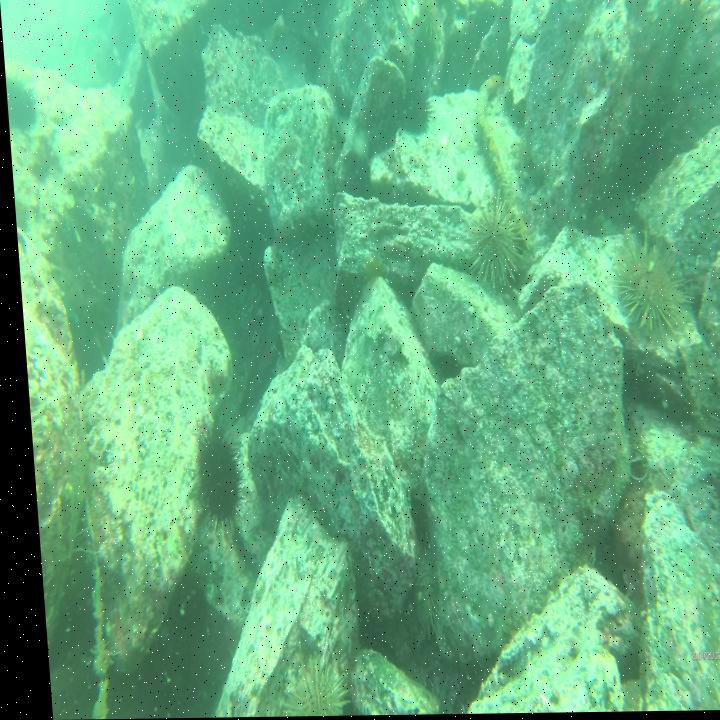echinus: (609, 234, 693, 346), (458, 198, 528, 296), (188, 423, 240, 544), (269, 652, 340, 717), (400, 535, 432, 639), (390, 83, 437, 137), (4, 71, 38, 137), (414, 0, 450, 47)
